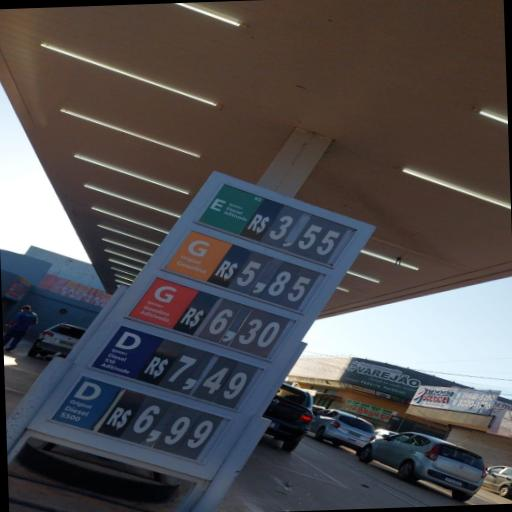ETANOL: (196, 183, 260, 229)
GASOLINA AD: (125, 277, 198, 329)
GASOLINA C: (169, 229, 231, 277)
S10: (89, 324, 163, 377)
S500: (51, 375, 120, 429)
placa: (18, 175, 369, 481)
preco: (118, 396, 221, 460), (192, 296, 294, 359), (156, 344, 257, 406), (229, 249, 320, 306), (262, 206, 350, 261)
